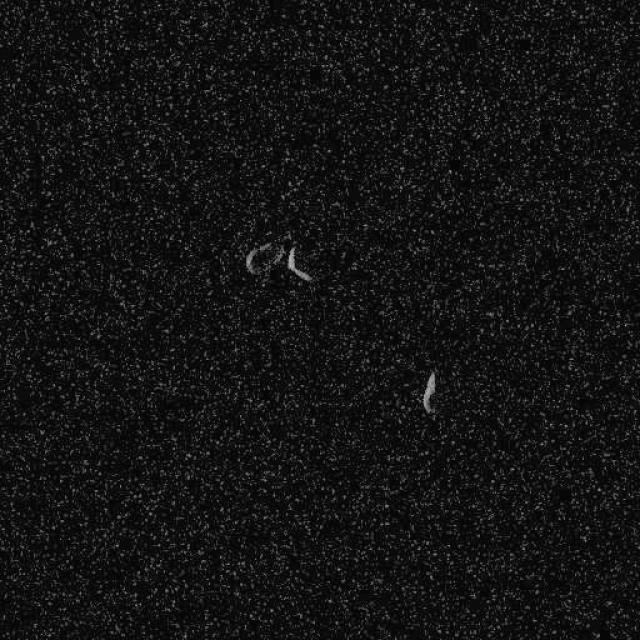D2: (244, 235, 314, 285), (422, 368, 438, 414)
